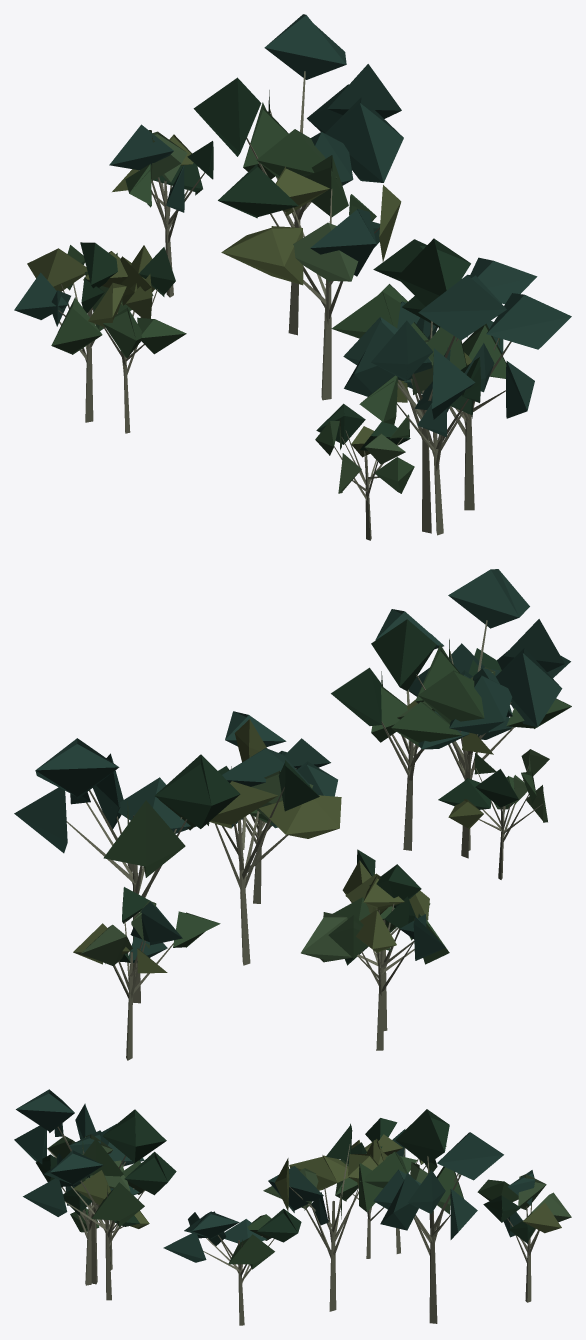
The model's file is forest_16_20.dae.
3 renders of one model, top to bottom at view 1: azimuth 30°, elevation 25°; view 2: azimuth 150°, elevation 25°; view 3: azimuth 270°, elevation 25°, orthographic. The views are drawn at different scales.
Parts seen in each view (by area): view 1: Node; view 2: Node; view 3: Node.
Boxes of the visible parts, x1,y1,x2,y2 form: Node: (14,14,571,540); Node: (14,569,571,1060); Node: (14,1089,571,1325).
Size of the model in its own units: 5.82 by 9.57 by 4.03.
